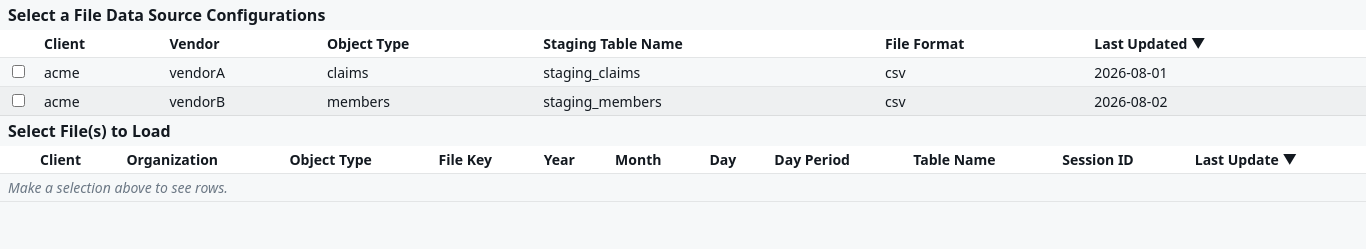
Test case: load_files, end to end › unblocks the second table with the first table's staging table name
The width and height of the screenshot is (1366, 249).
Expected: the text "staging_claims" is shown, [535,58,877,86]
Click the checkbox named "Select row 1" at (18, 72), box [12,65,25,78]
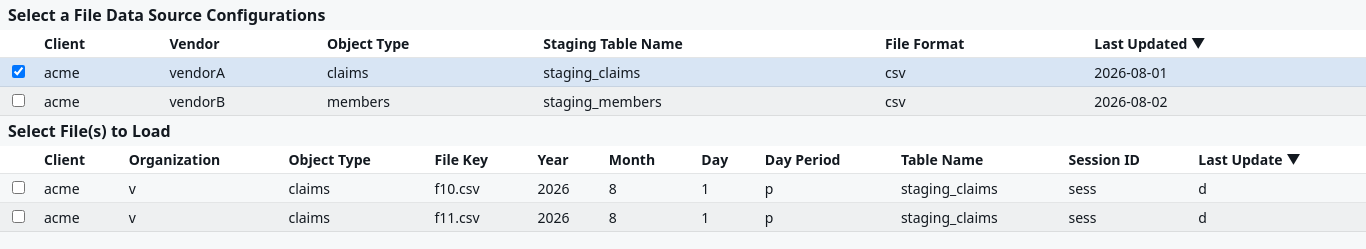
Expected: the text "f10.csv" is shown, [426,174,530,202]
Expected: the text "f11.csv" is shown, [426,202,530,232]
